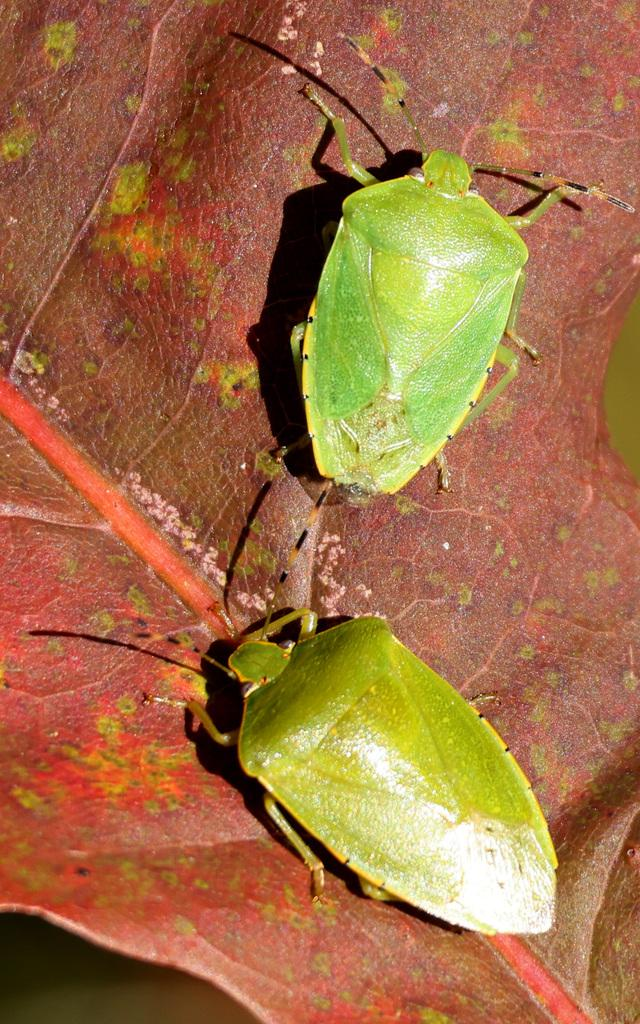stink_bugs: (69, 464, 640, 997), (229, 0, 640, 571)
